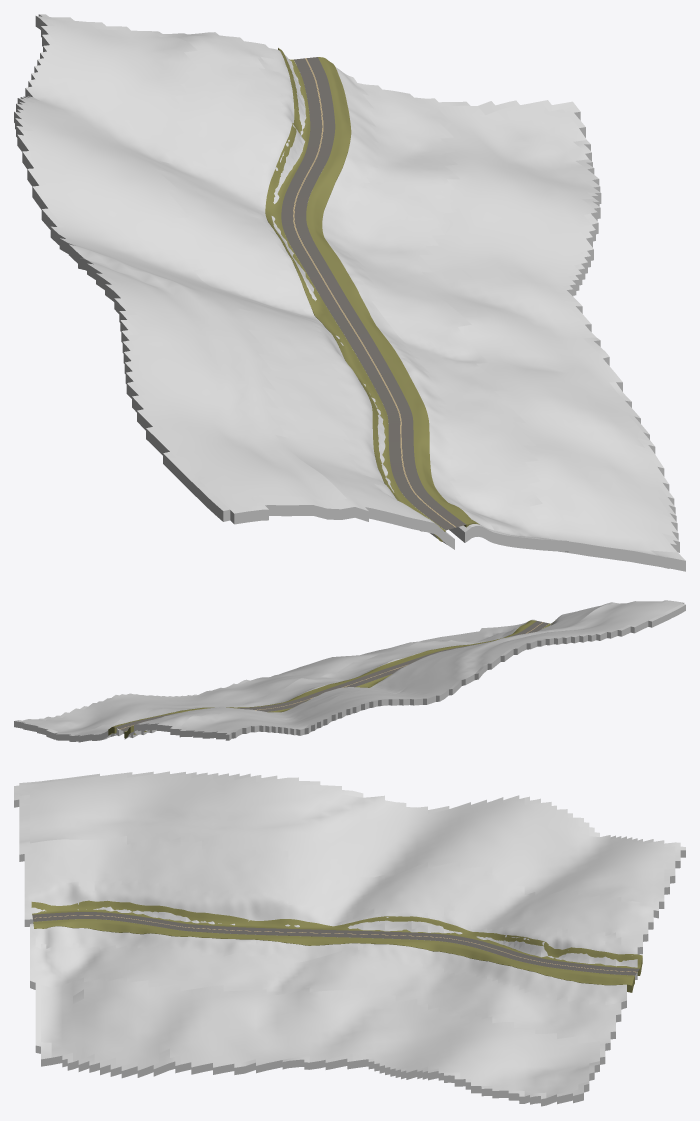
File: conz_196.glb
3 renders of one model, top to bottom at view 1: azimuth 30°, elevation 25°; view 2: azimuth 150°, elevation 25°; view 3: azimuth 270°, elevation 25°, orthographic. The views are drawn at different scales.
Visible parts, largest first — view 1: terrain196, road196, verge196R, verge196L, paint_yellow196; view 2: terrain196, road196, verge196R, verge196L; view 3: terrain196, verge196L, verge196R, road196.
Part boxes in pixels (x1,y1,x2,y2): terrain196: [14, 14, 685, 571]; road196: [281, 57, 465, 530]; verge196R: [306, 57, 479, 527]; verge196L: [265, 48, 445, 541]; paint_yellow196: [293, 58, 455, 527]; terrain196: [14, 600, 685, 742]; road196: [115, 621, 549, 731]; verge196R: [108, 620, 536, 735]; verge196L: [124, 620, 555, 738]; terrain196: [14, 771, 685, 1106]; verge196L: [31, 900, 642, 975]; verge196R: [33, 919, 634, 992]; road196: [32, 912, 639, 975].
Bounding box in the file's own units: 222 × 69.94 × 250.
